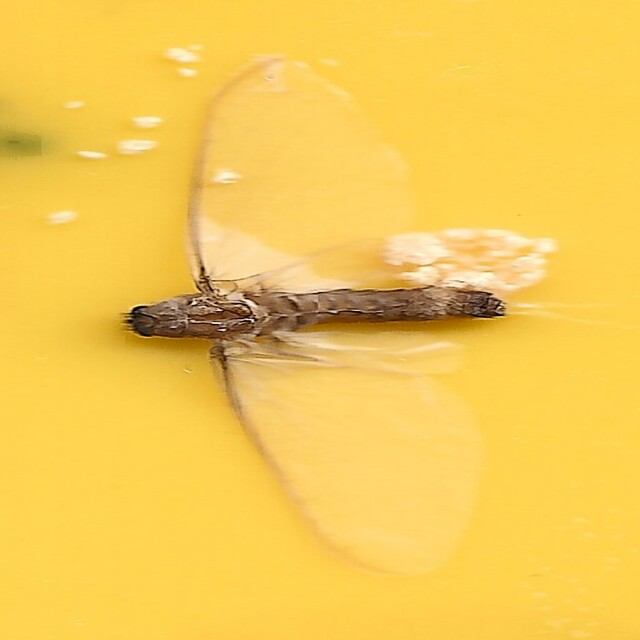Ephemeroptera: (125, 62, 515, 578)
